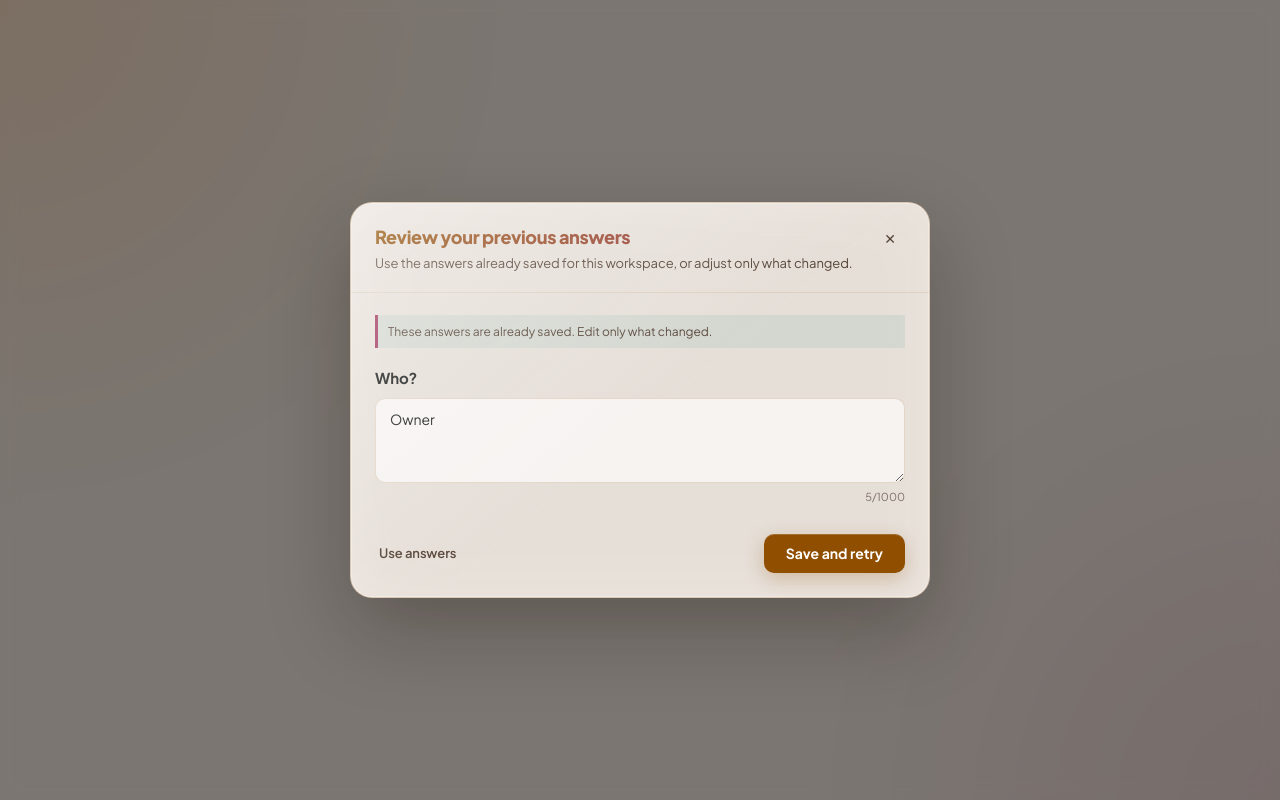
SpecClarificationModal › retains typed answers after a failed existing save
Replace the text in the text box labelled "Who?" with "New owner" at (640, 441), box left=375, top=398, right=905, bottom=483
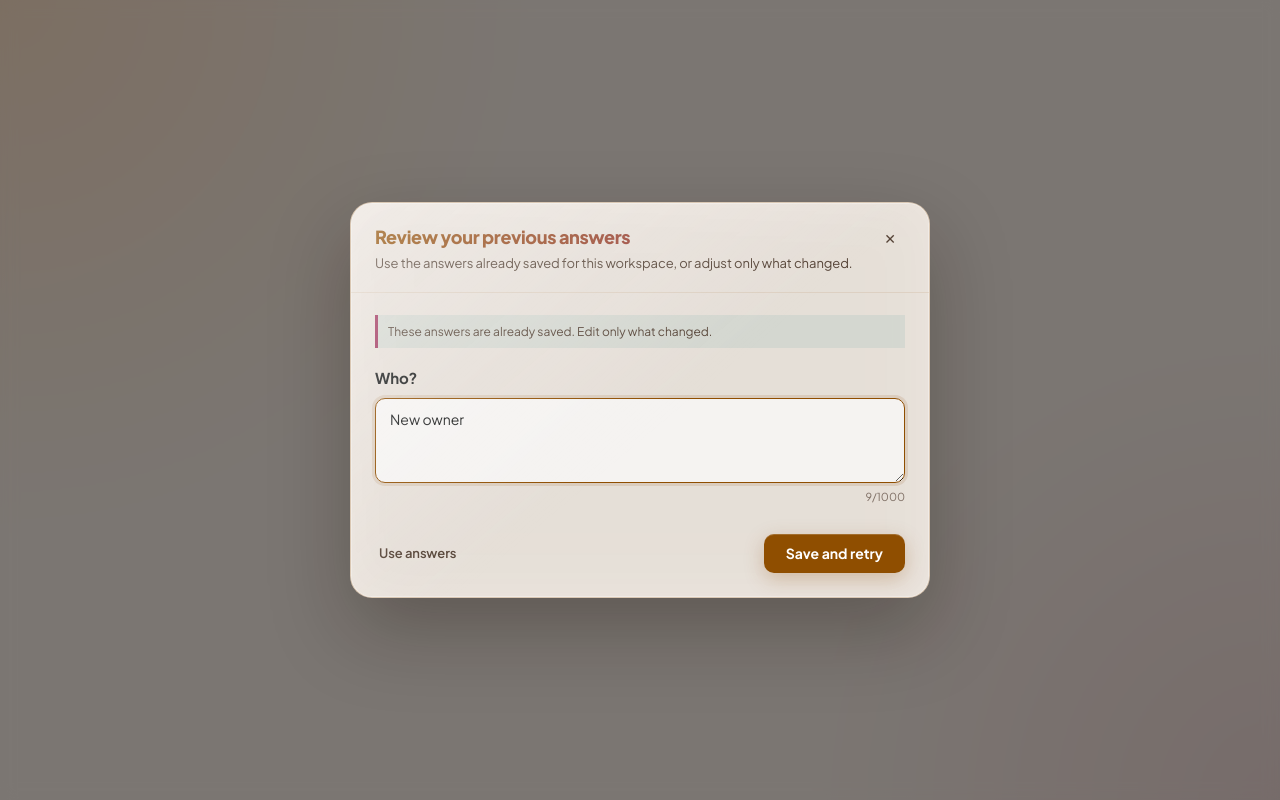
Click the button "Save and retry" at (834, 553), box left=764, top=534, right=905, bottom=573
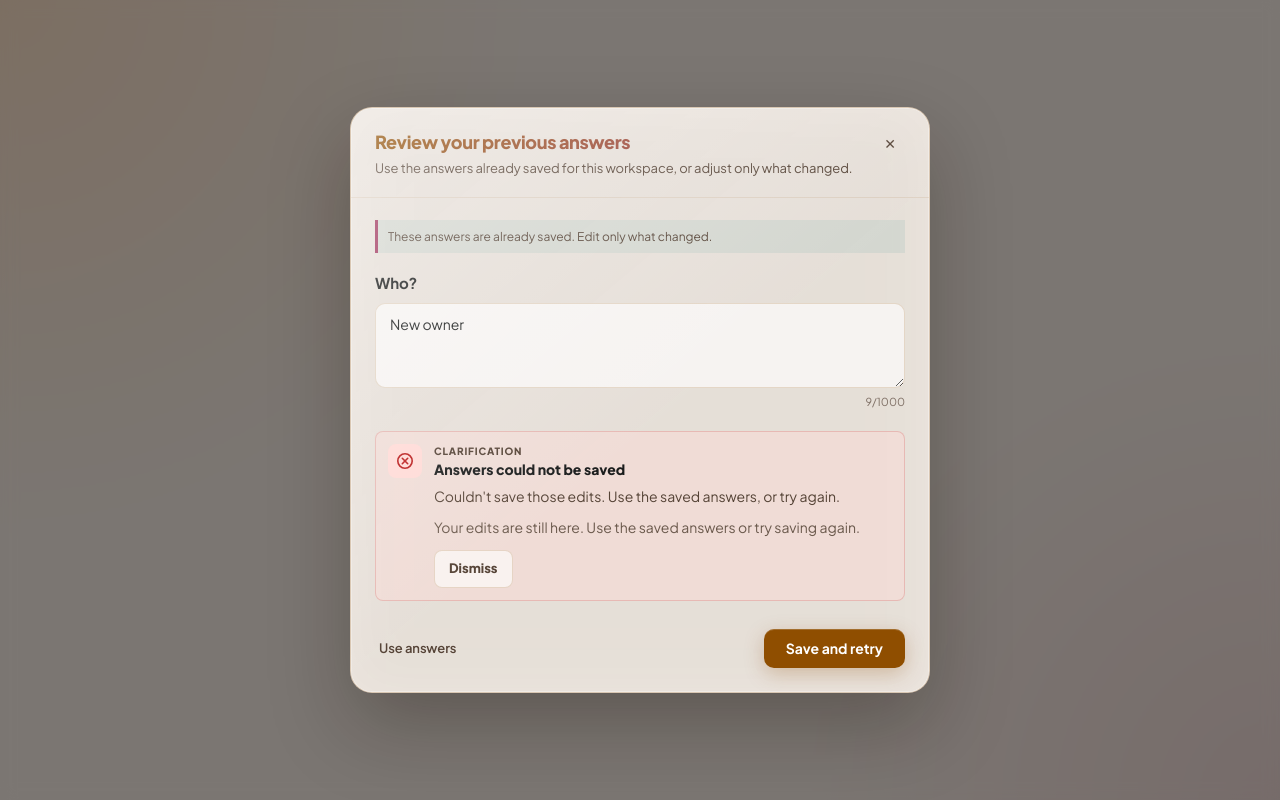
Check: the text "Answers could not be saved" is shown, box left=434, top=460, right=625, bottom=478
Click the button "Dismiss" at (473, 569), box left=434, top=550, right=512, bottom=588
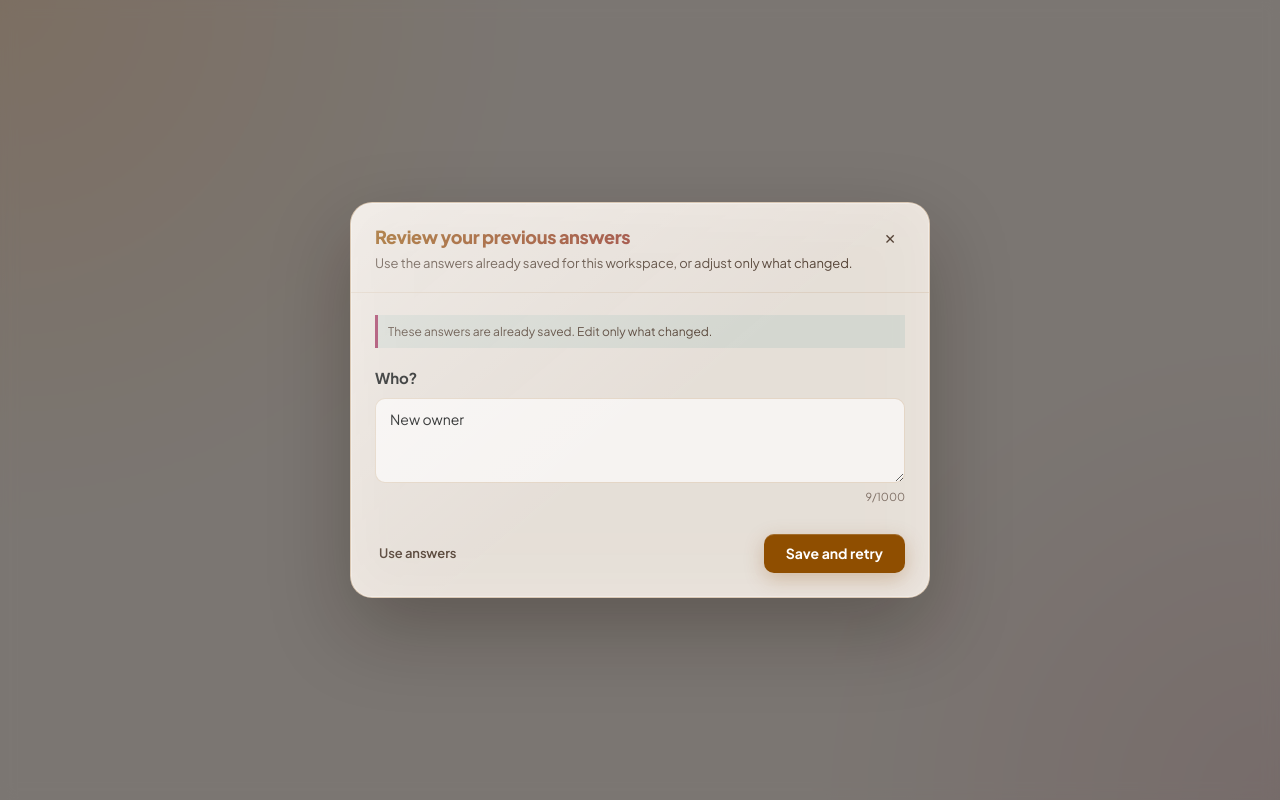
Check: the text "Answers could not be saved" is gone
